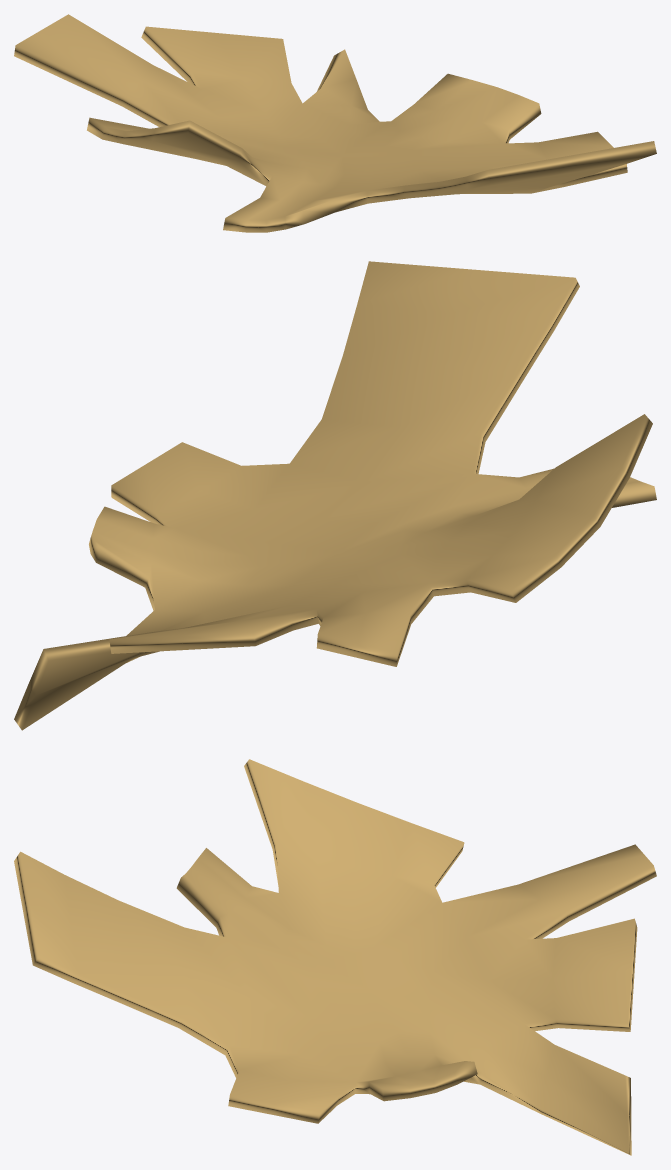
3 renders of one model, top to bottom at view 1: azimuth 30°, elevation 25°; view 2: azimuth 150°, elevation 25°; view 3: azimuth 270°, elevation 25°, orthographic. The views are drawn at different scales.
Visible parts, largest first — view 1: 左侧腕辐状韧带; view 2: 左侧腕辐状韧带; view 3: 左侧腕辐状韧带.
Part boxes in pixels (left/top/right/bottom): 左侧腕辐状韧带: left=14, top=14, right=656, bottom=232; 左侧腕辐状韧带: left=14, top=261, right=656, bottom=730; 左侧腕辐状韧带: left=14, top=759, right=656, bottom=1155.
Bounding box in the file's own units: 0.0296 × 0.0142 × 0.037.
